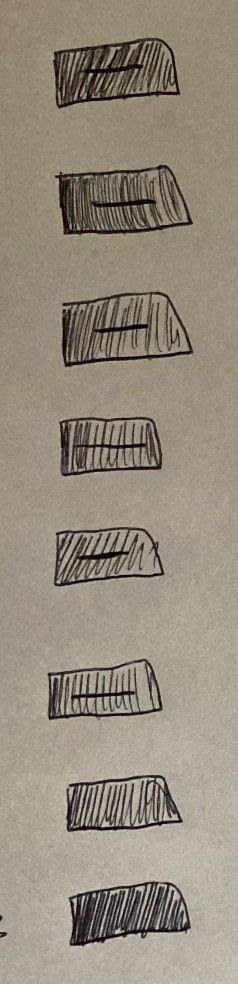button: (52, 160, 202, 241), (50, 34, 184, 114), (61, 876, 196, 948), (42, 657, 173, 727), (49, 519, 174, 590), (52, 407, 170, 482), (61, 772, 185, 834)
